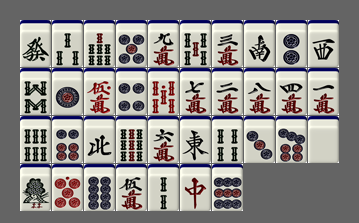0m: (84, 68, 115, 115)
0p: (52, 164, 83, 211)
0s: (148, 68, 179, 115)
1m: (308, 68, 339, 115)
1p: (52, 68, 83, 115)
1s: (20, 164, 51, 211)
1z: (180, 116, 211, 163)
2m: (212, 68, 243, 115)
2p: (276, 20, 307, 67)
2s: (148, 164, 179, 211)
2z: (244, 20, 275, 67)
3m: (212, 20, 243, 67)
3p: (244, 116, 275, 163)
3s: (52, 20, 83, 67)
3z: (308, 20, 339, 67)
4m: (276, 68, 307, 115)
4p: (116, 68, 147, 115)
4s: (212, 116, 243, 163)
4z: (84, 116, 115, 163)
5m: (116, 164, 147, 211)
5p: (116, 20, 147, 67)
5s: (180, 20, 211, 67)
5z: (308, 116, 339, 163)
6m: (148, 116, 179, 163)
6p: (52, 116, 83, 163)
6s: (20, 116, 51, 163)
6z: (20, 20, 51, 67)
7m: (180, 68, 211, 115)
7p: (276, 116, 307, 163)
7s: (84, 20, 115, 67)
7z: (180, 164, 211, 211)
8m: (244, 68, 275, 115)
8p: (84, 164, 115, 211)
8s: (20, 68, 51, 115)
9m: (148, 20, 179, 67)
9p: (212, 164, 243, 211)
9s: (116, 116, 147, 163)
